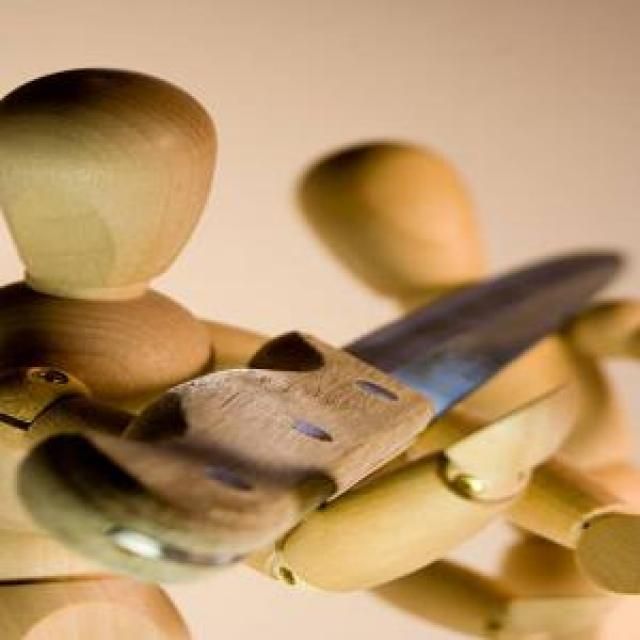knife: (28, 245, 627, 590)
